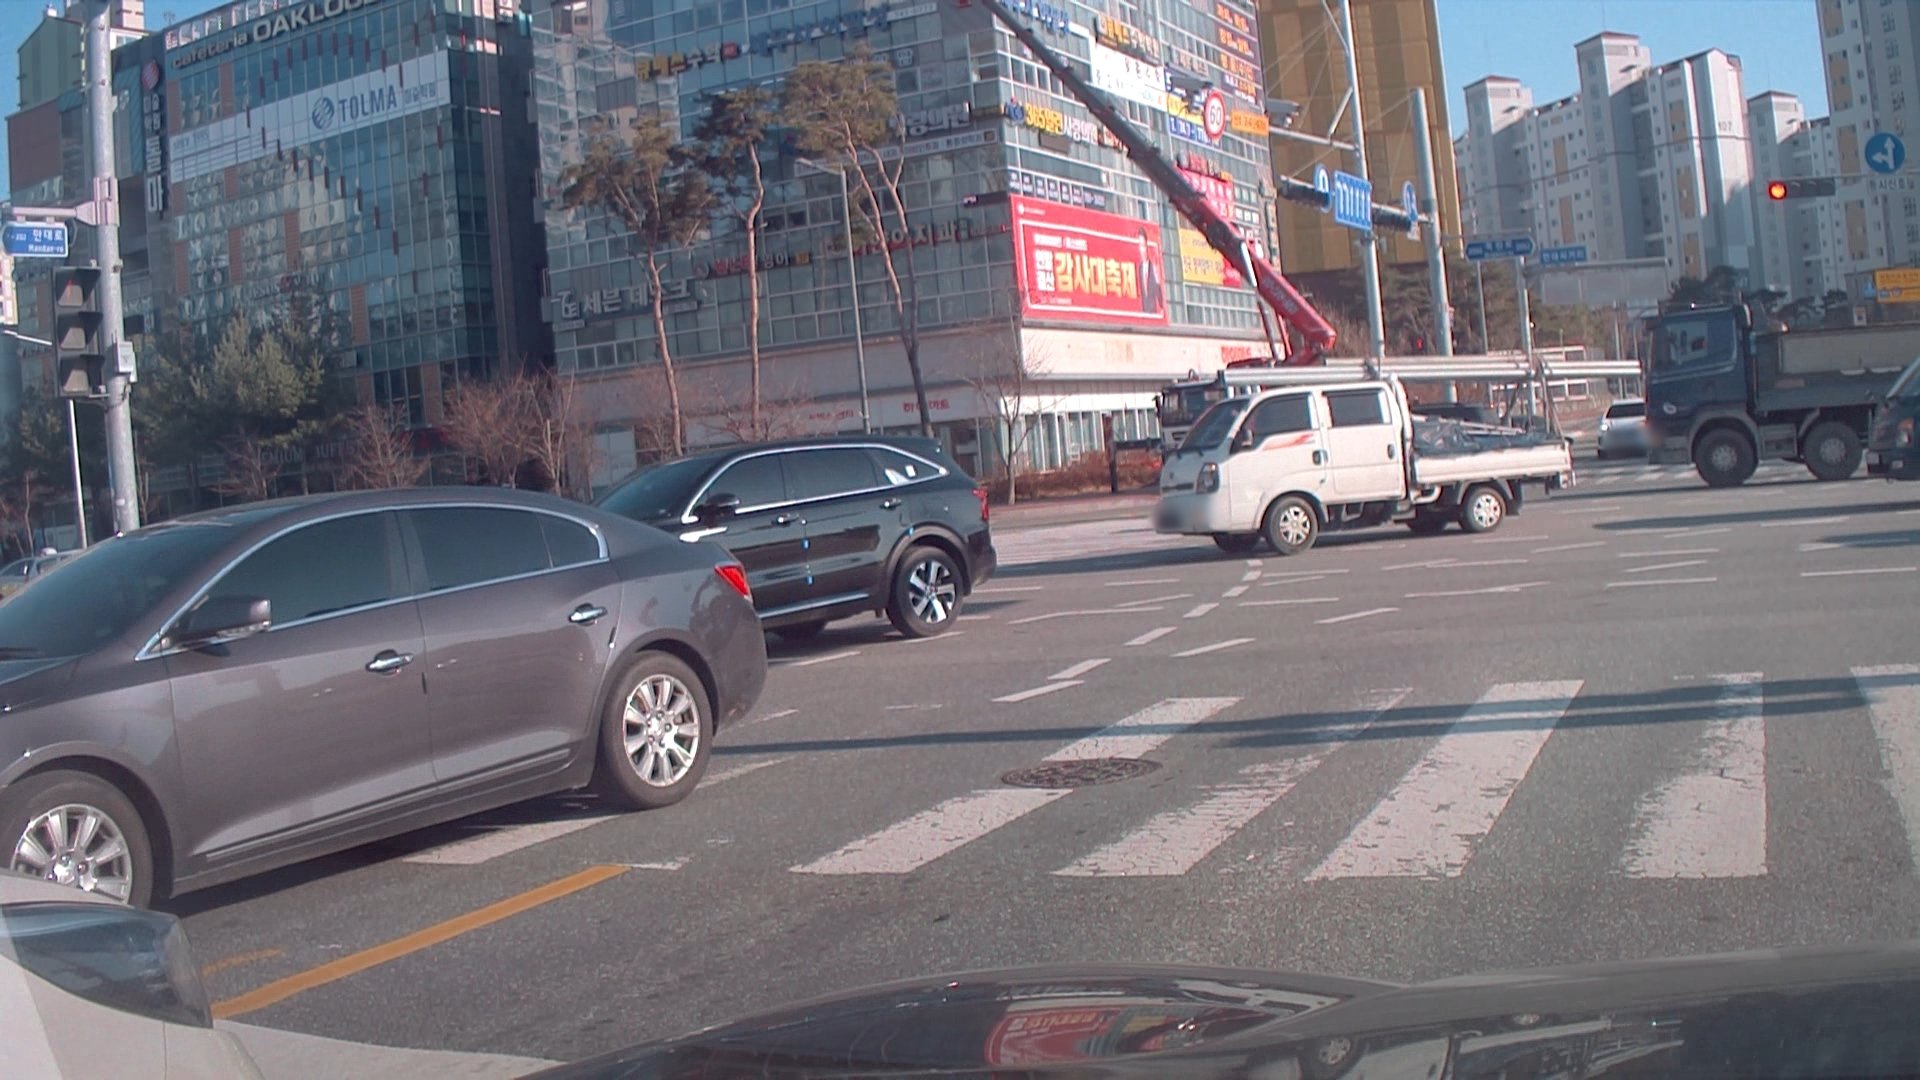trafficLight: (1768, 175, 1838, 200)
trafficSignCircle: (1866, 132, 1903, 174), (1205, 90, 1226, 142), (1308, 164, 1329, 208), (1404, 179, 1418, 222)
trafficSignRTG: (1335, 179, 1375, 224)
